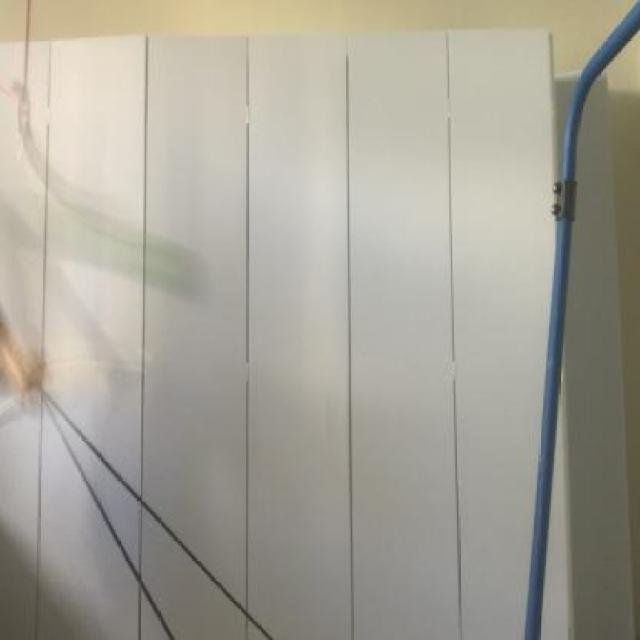baseball: (0, 180, 211, 303)
